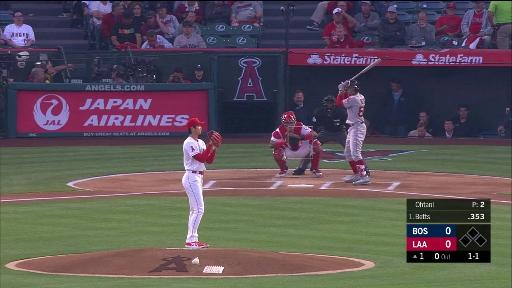pitcher: (183, 118, 222, 249)
